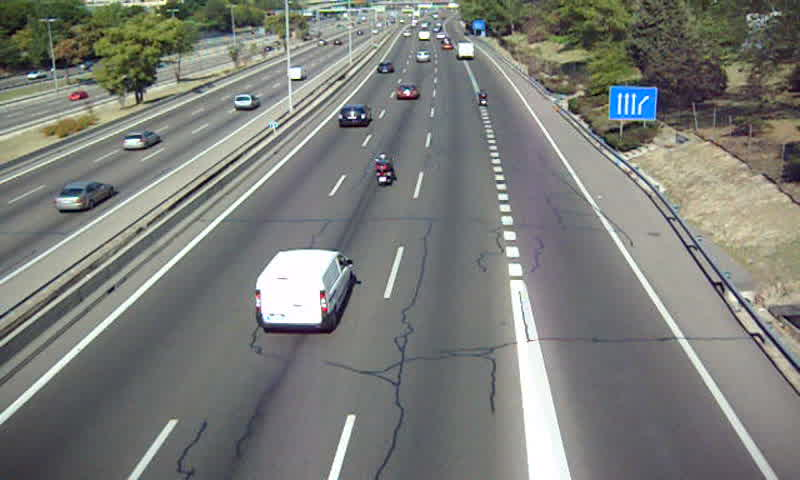car: (337, 105, 372, 127), (395, 84, 418, 100), (375, 61, 394, 74), (414, 50, 430, 63)
motorcycle: (373, 152, 394, 189), (478, 88, 488, 109)
van: (254, 250, 352, 334), (457, 41, 476, 60)
